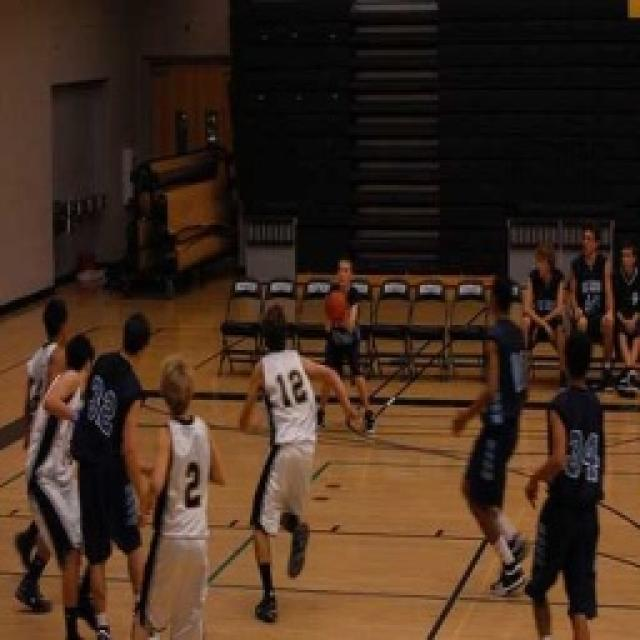rim: (326, 292, 354, 326)
